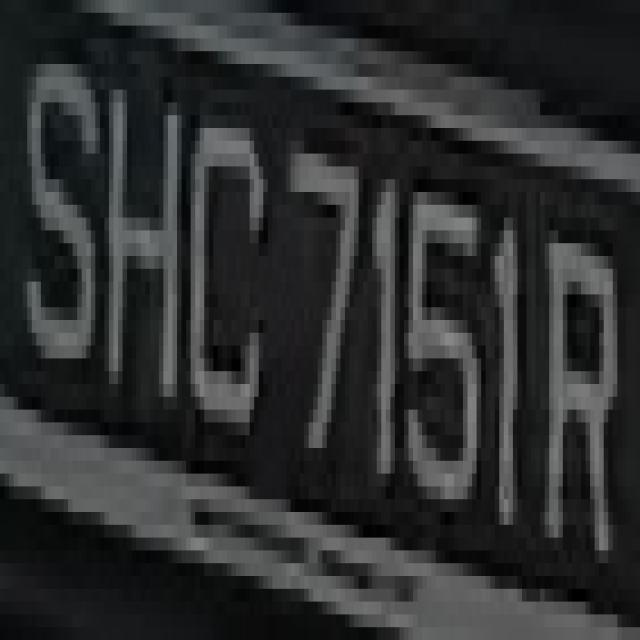1: (481, 128, 531, 589), (359, 115, 404, 538)
5: (395, 128, 481, 576)
7: (277, 90, 358, 487)
C: (186, 90, 272, 460)
H: (95, 38, 191, 410)
R: (536, 166, 617, 589)
S: (14, 26, 100, 384)
